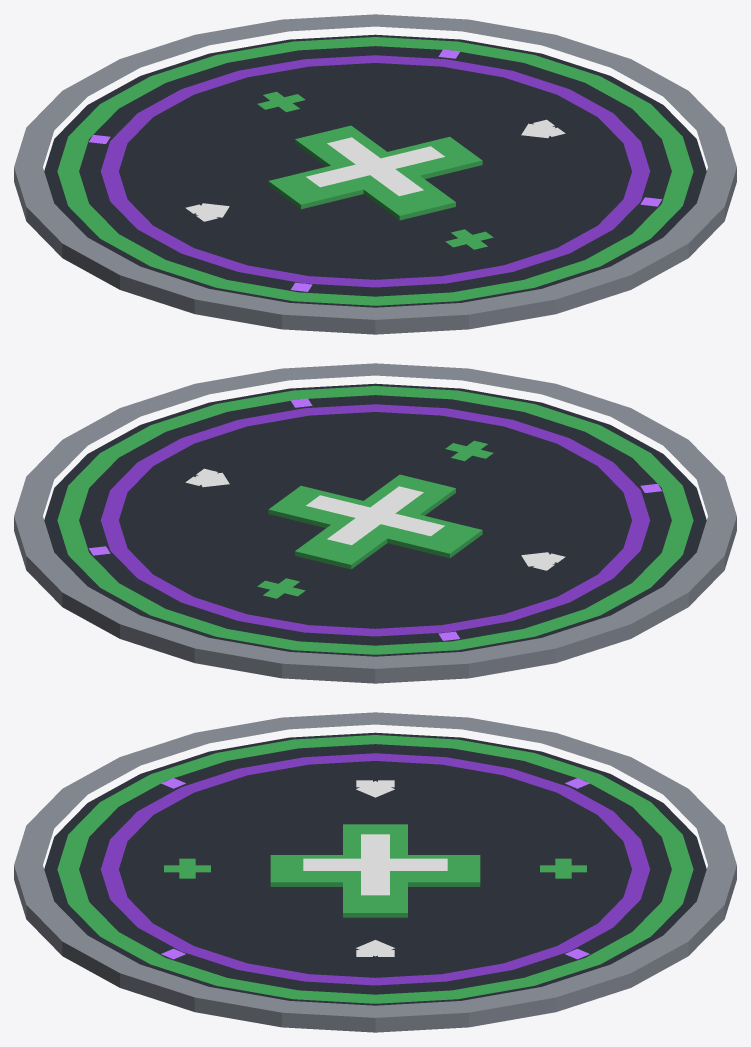
File: medic_rare_area.glb
3 renders of one model, top to bottom at view 1: azimuth 30°, elevation 25°; view 2: azimuth 150°, elevation 25°; view 3: azimuth 270°, elevation 25°, orthographic.
Visible parts, largest first — view 1: medic_rare_area; view 2: medic_rare_area; view 3: medic_rare_area.
Part boxes in pixels (box(x1,y1,x2,y2)): medic_rare_area: box(14, 14, 736, 334); medic_rare_area: box(14, 363, 736, 683); medic_rare_area: box(14, 712, 736, 1032).
Size of the model in its own units: 2 by 0.046 by 2.
2 materials, 2 textured.
